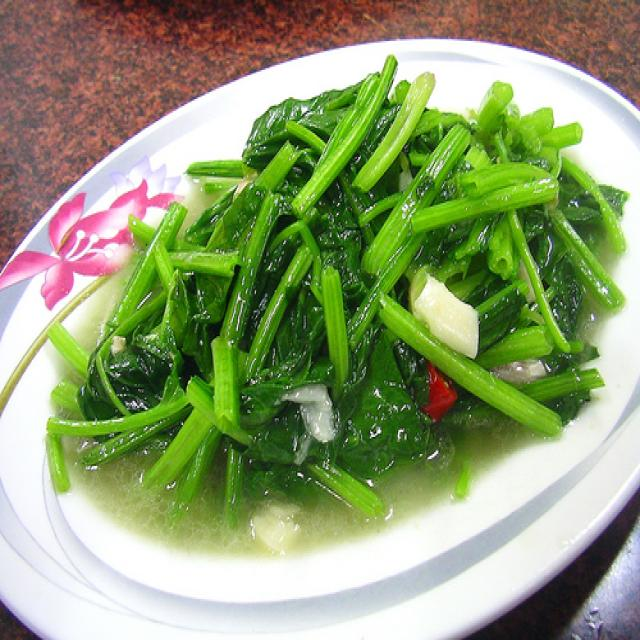蔬菜料理: (0, 14, 640, 577)
